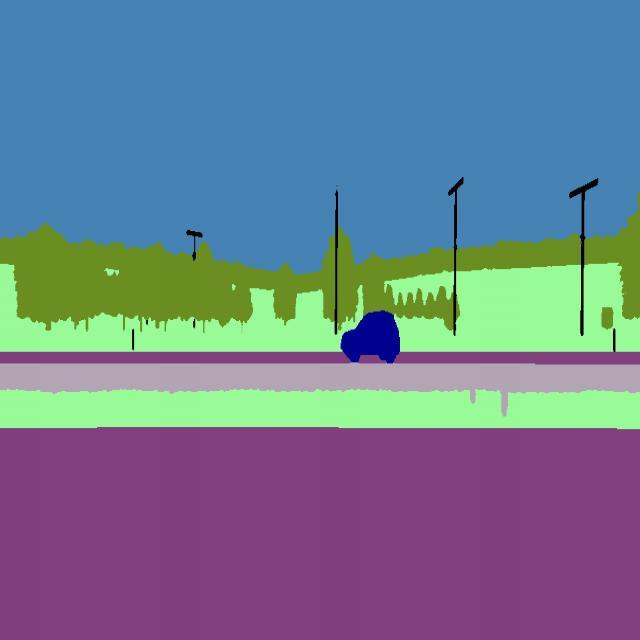safe: (341, 306, 402, 368)
